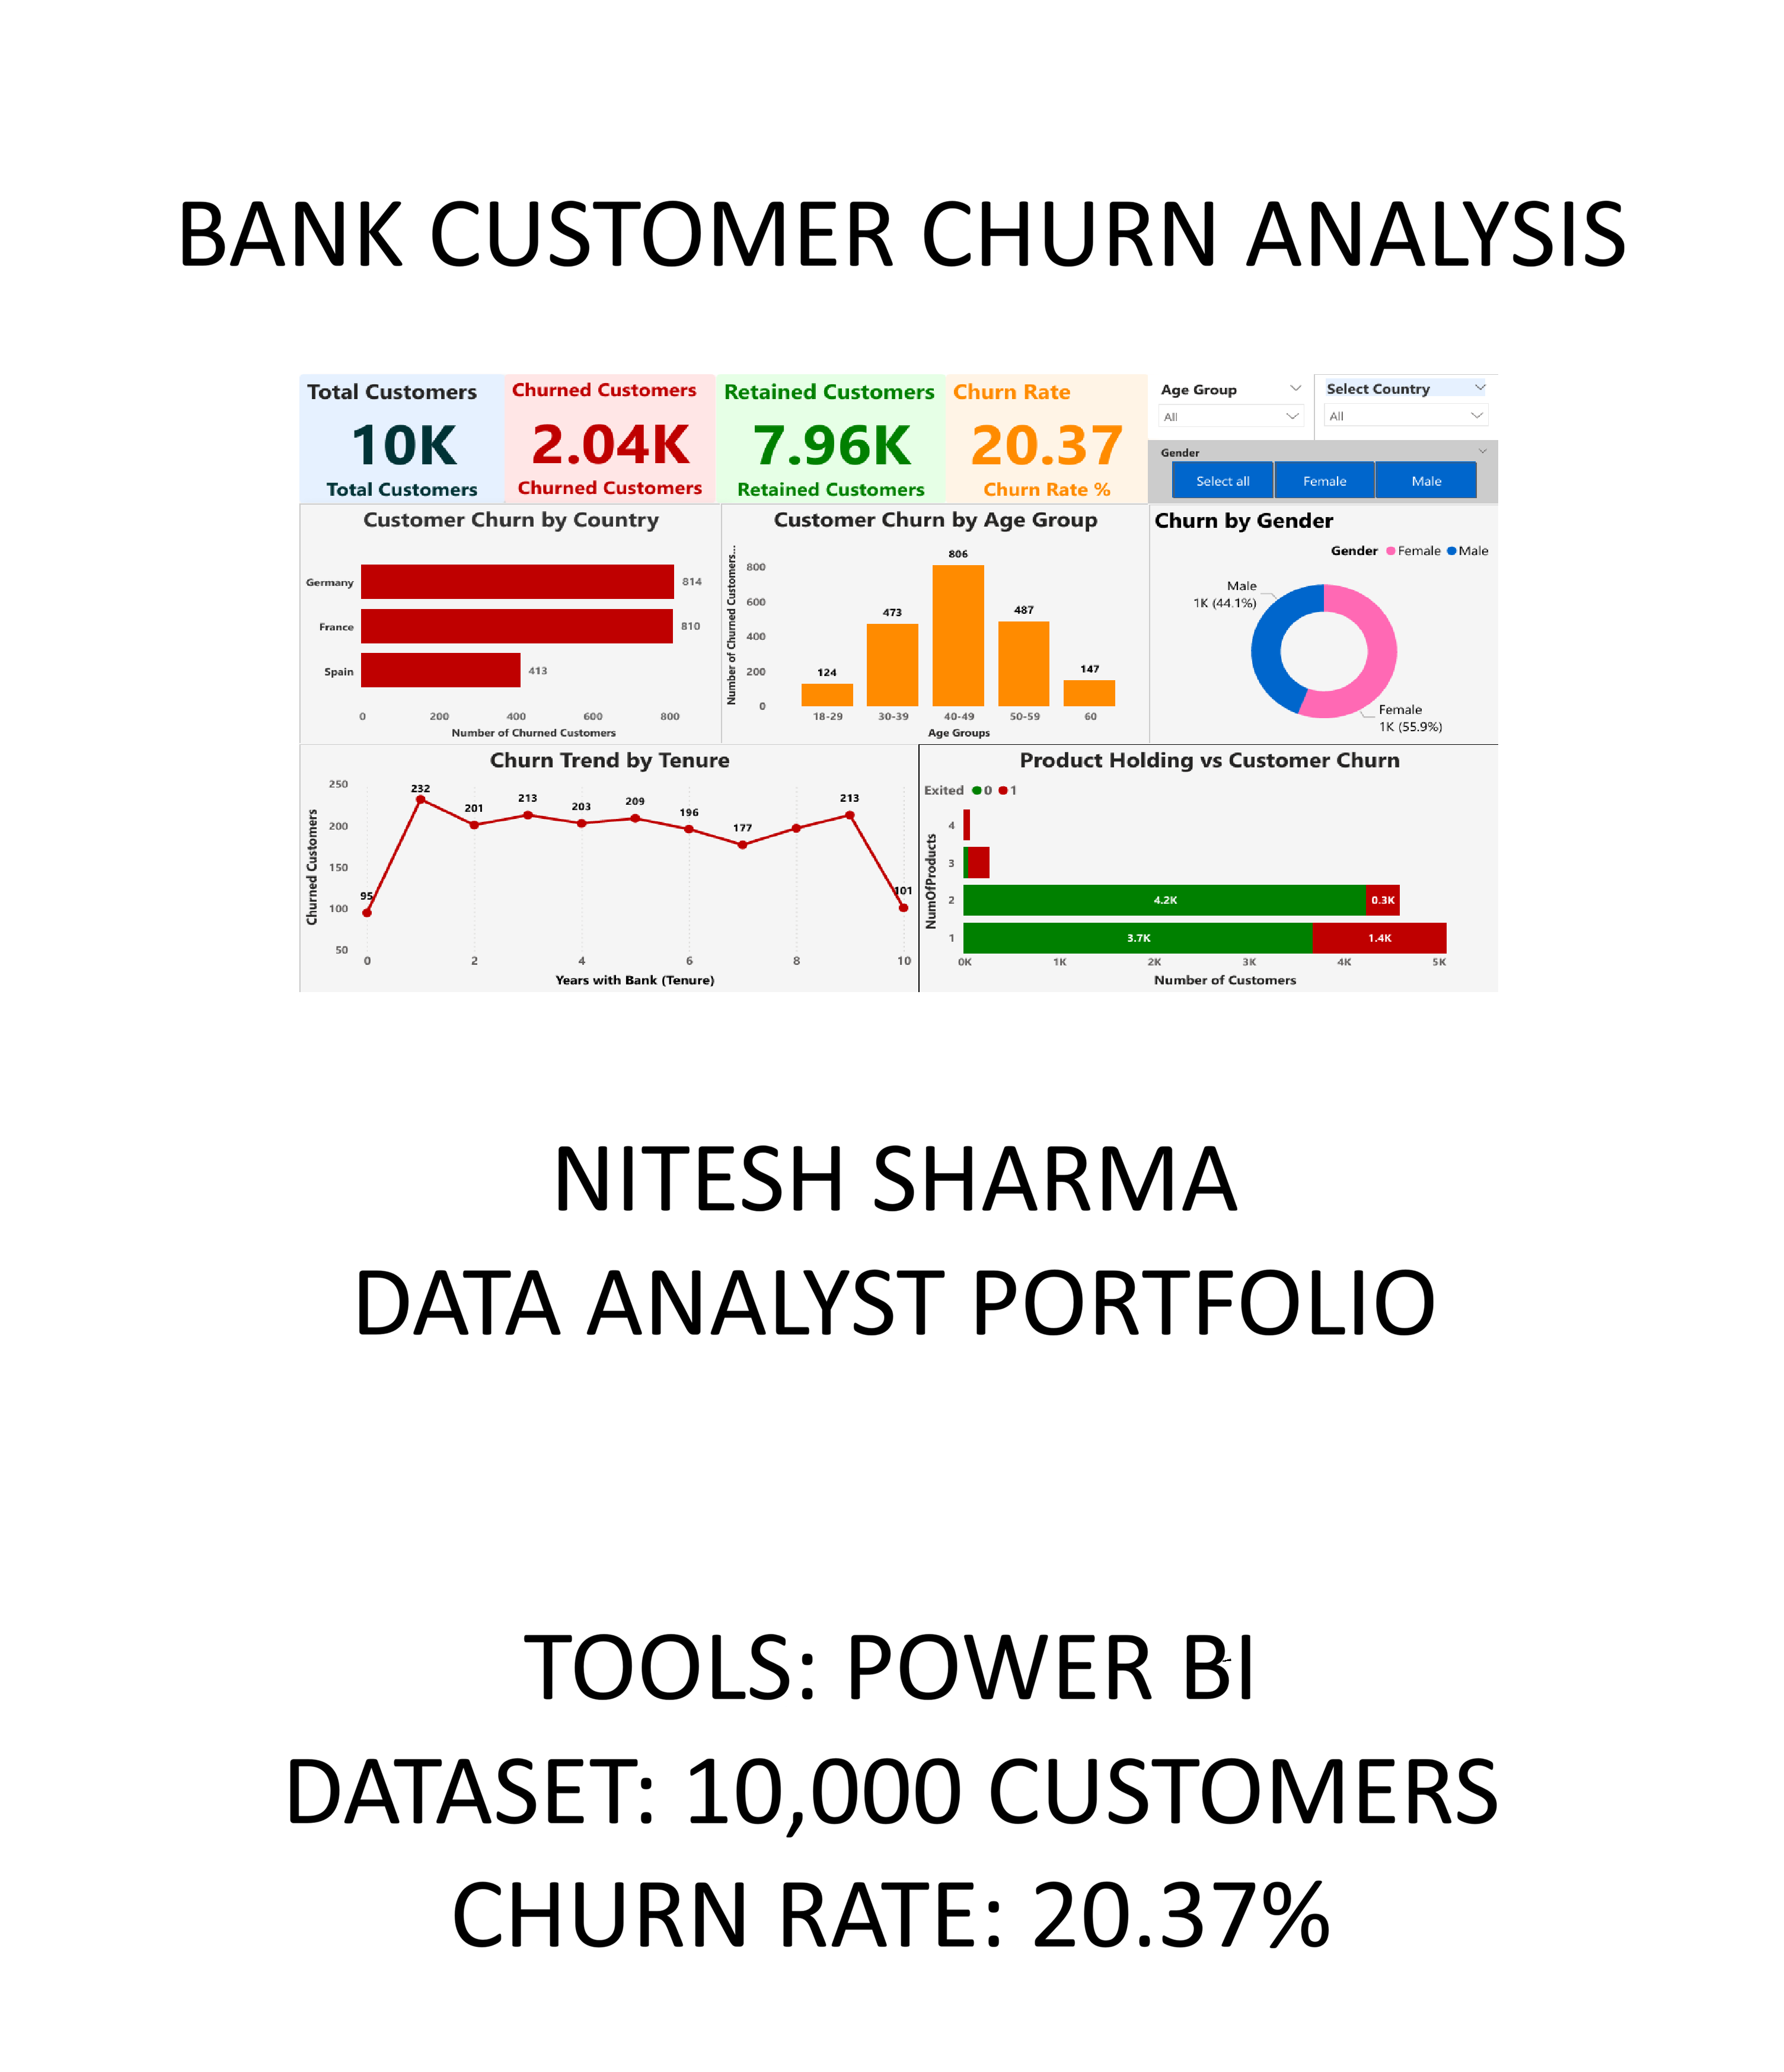

Layout of this report page (visuals, bound fields, positions):
{"tool":"powerbi","page":{"name":"Page 1","canvas":[1280,720],"ordinal":0},"visuals":[{"type":"card","title":"Total Customers","fields":{"Values":["Churn_Modelling.Total Customers"]},"box":[0,0,218.6,150.6],"z":0},{"type":"card","title":"Churned Customers","fields":{"Values":["Churn_Modelling.Churned Customers"]},"box":[218.6,0,225.1,150.6],"z":1000},{"type":"card","title":"Retained Customers","fields":{"Values":["Churn_Modelling.Retained Customers"]},"box":[445.3,0,244.5,150.6],"z":2000},{"type":"card","title":"Churn Rate","fields":{"Values":["Churn_Modelling.Churn Rate %"]},"box":[689.8,0,217,150.6],"z":3000},{"type":"barChart","title":"Customer Churn by Country","fields":{"Category":["Churn_Modelling.Geography"],"Y":["CountNonNull(Churn_Modelling.CustomerId)"]},"box":[0,150.6,450,280],"z":4000},{"type":"clusteredColumnChart","title":"Customer Churn by Age Group","fields":{"Category":["Churn_Modelling.Age Group"],"Y":["CountNonNull(Churn_Modelling.CustomerId)"]},"box":[450.1,150.6,456.6,280.1],"z":5000},{"type":"donutChart","title":"Churn by Gender","fields":{"Category":["Churn_Modelling.Gender"],"Y":["CountNonNull(Churn_Modelling.CustomerId)"]},"box":[906.8,152.2,374,278.5],"z":6000},{"type":"lineChart","title":"Churn Trend by Tenure","fields":{"Category":["Churn_Modelling.Tenure"],"Y":["CountNonNull(Churn_Modelling.CustomerId)"]},"box":[0,430.7,660.6,289.8],"z":7000},{"type":"barChart","title":"Product Holding vs Customer Churn","fields":{"Category":["Churn_Modelling.NumOfProducts"],"Y":["CountNonNull(Churn_Modelling.CustomerId)"],"Series":["Churn_Modelling.Exited"]},"box":[660.6,430.7,620.2,289.8],"z":8000},{"type":"slicer","fields":{"Values":["Churn_Modelling.Geography"]},"box":[1083.3,0,197.5,77.7],"z":9000},{"type":"slicer","fields":{"Values":["Churn_Modelling.Gender"]},"box":[906.8,77.7,374,74.5],"z":10000},{"type":"slicer","fields":{"Values":["Churn_Modelling.Age Group"]},"box":[906.8,1.6,176.5,74.5],"z":11000}]}

Visuals, with their boxes on the page's 1280x720 design canvas (x1, y1, x2, y2). These are canvas units, not pixel positions in the 1784x2072 screenshot, which may show the page scaled, cropped or inside an application window:
"Total Customers" card: [left=0, top=0, right=219, bottom=151]
"Churned Customers" card: [left=219, top=0, right=444, bottom=151]
"Retained Customers" card: [left=445, top=0, right=690, bottom=151]
"Churn Rate" card: [left=690, top=0, right=907, bottom=151]
"Customer Churn by Country" barChart: [left=0, top=151, right=450, bottom=431]
"Customer Churn by Age Group" clusteredColumnChart: [left=450, top=151, right=907, bottom=431]
"Churn by Gender" donutChart: [left=907, top=152, right=1281, bottom=431]
"Churn Trend by Tenure" lineChart: [left=0, top=431, right=661, bottom=720]
"Product Holding vs Customer Churn" barChart: [left=661, top=431, right=1281, bottom=720]
slicer - Churn_Modelling.Geography: [left=1083, top=0, right=1281, bottom=78]
slicer - Churn_Modelling.Gender: [left=907, top=78, right=1281, bottom=152]
slicer - Churn_Modelling.Age Group: [left=907, top=2, right=1083, bottom=76]
